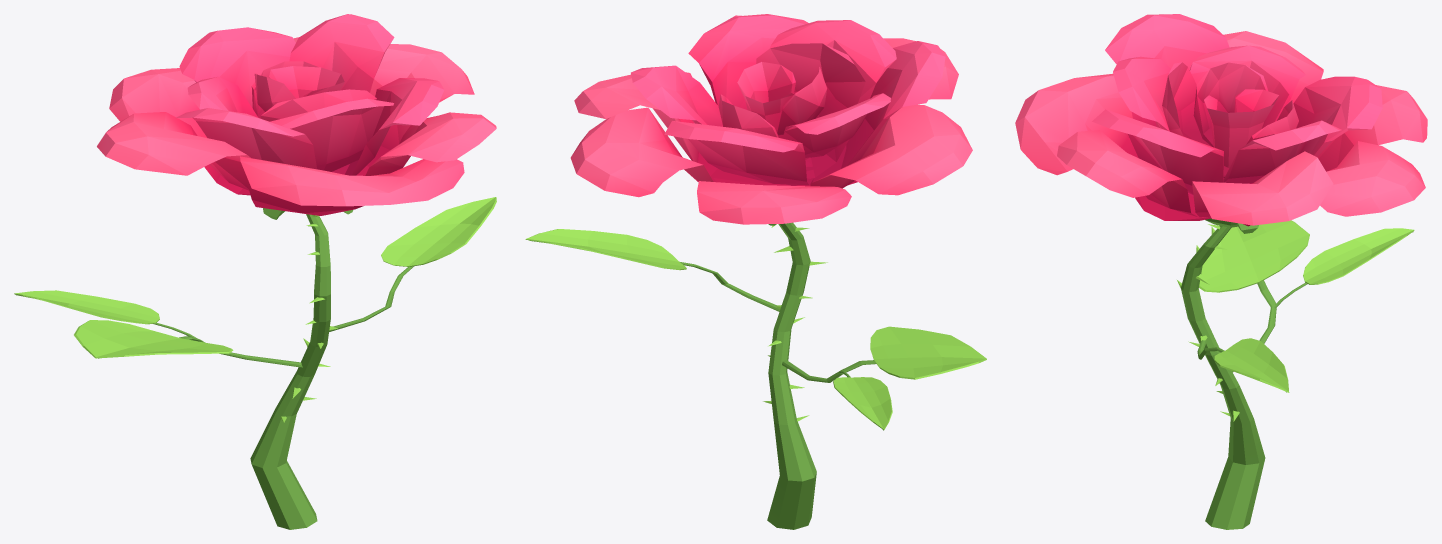
Rendered from rose.glb.
3 views of the same model, side by side, from view 1: azimuth 30°, elevation 25°; view 2: azimuth 150°, elevation 25°; view 3: azimuth 270°, elevation 25° (orthographic).
Parts seen in each view (by area): view 1: Harvest rose; view 2: Harvest rose; view 3: Harvest rose.
Boxes of the visible parts, x1=… form: Harvest rose: x1=14, y1=14, x2=496, y2=529; Harvest rose: x1=525, y1=14, x2=986, y2=529; Harvest rose: x1=1015, y1=14, x2=1427, y2=529.
Size of the model in its own units: 0.8082 by 0.8272 by 0.6743.
